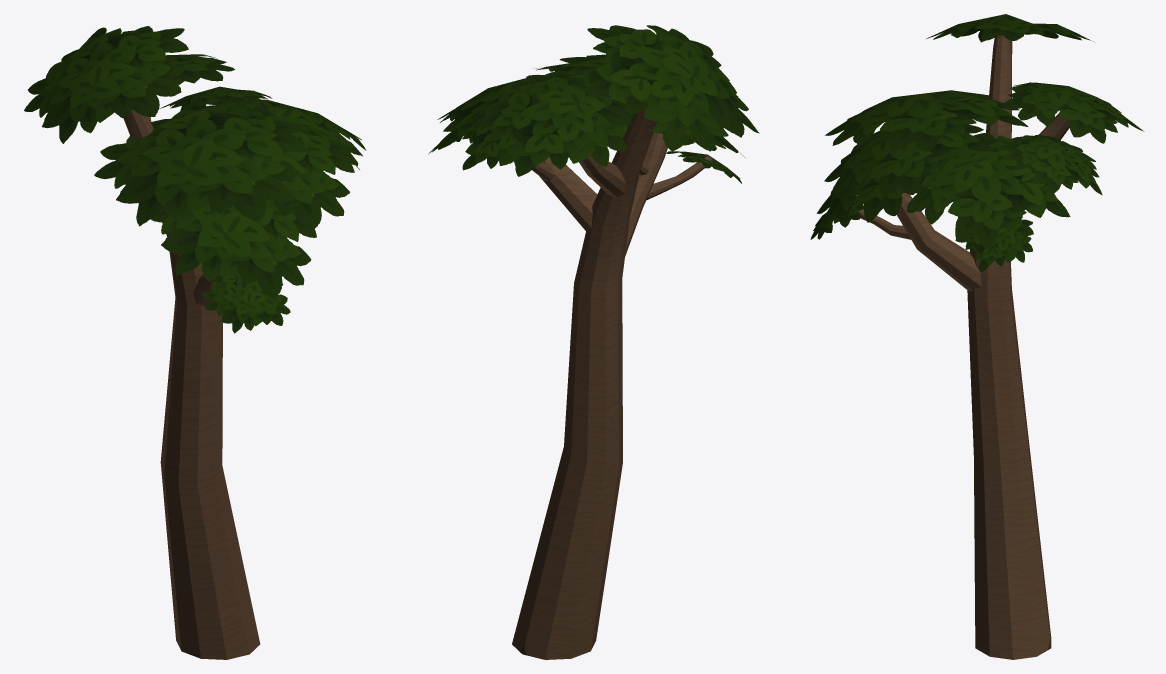
The model's file is Tree2.fbx.
3 renders of one model, left to right at view 1: azimuth 30°, elevation 25°; view 2: azimuth 150°, elevation 25°; view 3: azimuth 270°, elevation 25°, orthographic. The views are drawn at different scales.
Parts seen in each view (by area): view 1: pDisc57; view 2: pDisc57; view 3: pDisc57.
Boxes of the visible parts, x1,y1,x2,y2 form: pDisc57: (24, 26, 366, 659); pDisc57: (428, 25, 759, 659); pDisc57: (810, 14, 1144, 659).
Size of the model in its own units: 284 by 515 by 276.
